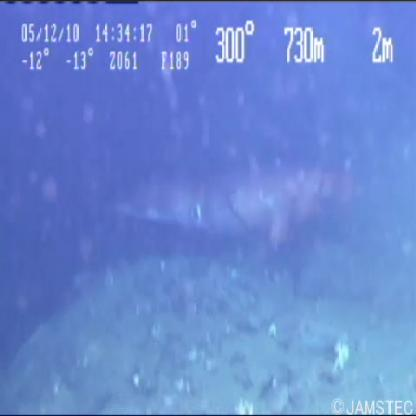Bio: (100, 157, 366, 254)
